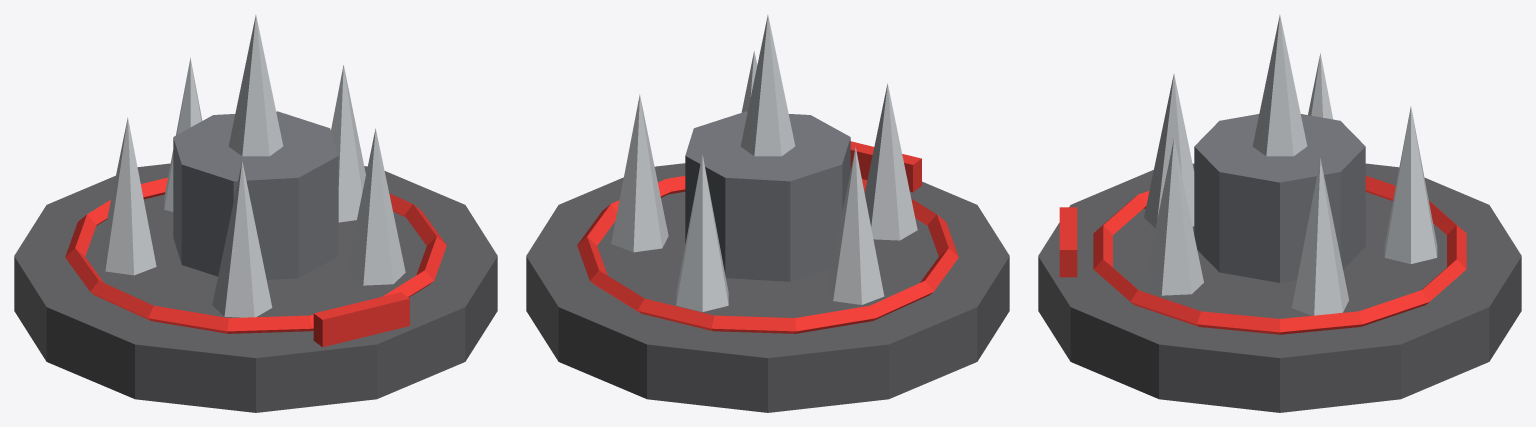
Rendered from TD_SpikeTower_T0.fbx.
3 views of the same model, side by side, from view 1: azimuth 30°, elevation 25°; view 2: azimuth 150°, elevation 25°; view 3: azimuth 270°, elevation 25° (orthographic).
Visible parts, largest first — view 1: TD_SpikeTower_T0_Base, TD_SpikeTower_T0_Core, TD_SpikeTower_T0_WarningRing, TD_SpikeTower_T0_Spike_05, TD_SpikeTower_T0_Spike_04, TD_SpikeTower_T0_Spike_03, TD_SpikeTower_T0_CentralSpike, TD_SpikeTower_T0_RedWarningMark, TD_SpikeTower_T0_Spike_01, TD_SpikeTower_T0_Spike_02; view 2: TD_SpikeTower_T0_Base, TD_SpikeTower_T0_Core, TD_SpikeTower_T0_WarningRing, TD_SpikeTower_T0_Spike_01, TD_SpikeTower_T0_Spike_03, TD_SpikeTower_T0_Spike_04, TD_SpikeTower_T0_Spike_02, TD_SpikeTower_T0_CentralSpike, TD_SpikeTower_T0_RedWarningMark; view 3: TD_SpikeTower_T0_Base, TD_SpikeTower_T0_Core, TD_SpikeTower_T0_WarningRing, TD_SpikeTower_T0_Spike_05, TD_SpikeTower_T0_Spike_01, TD_SpikeTower_T0_Spike_02, TD_SpikeTower_T0_CentralSpike, TD_SpikeTower_T0_Spike_04, TD_SpikeTower_T0_RedWarningMark, TD_SpikeTower_T0_Spike_03.
Boxes of the visible parts, bbox=[...] form: TD_SpikeTower_T0_Base: bbox=[14, 163, 497, 412]; TD_SpikeTower_T0_Core: bbox=[173, 111, 338, 279]; TD_SpikeTower_T0_WarningRing: bbox=[65, 177, 446, 333]; TD_SpikeTower_T0_Spike_05: bbox=[345, 128, 405, 285]; TD_SpikeTower_T0_Spike_04: bbox=[212, 161, 272, 317]; TD_SpikeTower_T0_Spike_03: bbox=[99, 117, 156, 275]; TD_SpikeTower_T0_CentralSpike: bbox=[228, 15, 283, 156]; TD_SpikeTower_T0_RedWarningMark: bbox=[313, 292, 409, 347]; TD_SpikeTower_T0_Spike_01: bbox=[331, 65, 365, 222]; TD_SpikeTower_T0_Spike_02: bbox=[164, 57, 202, 211]; TD_SpikeTower_T0_Base: bbox=[526, 163, 1009, 412]; TD_SpikeTower_T0_Core: bbox=[685, 111, 850, 281]; TD_SpikeTower_T0_WarningRing: bbox=[577, 176, 958, 333]; TD_SpikeTower_T0_Spike_01: bbox=[611, 94, 668, 252]; TD_SpikeTower_T0_Spike_03: bbox=[827, 147, 884, 304]; TD_SpikeTower_T0_Spike_04: bbox=[864, 83, 917, 240]; TD_SpikeTower_T0_Spike_02: bbox=[676, 153, 728, 311]; TD_SpikeTower_T0_CentralSpike: bbox=[740, 15, 795, 156]; TD_SpikeTower_T0_RedWarningMark: bbox=[850, 141, 921, 192]; TD_SpikeTower_T0_Base: bbox=[1038, 163, 1521, 412]; TD_SpikeTower_T0_Core: bbox=[1194, 114, 1365, 282]; TD_SpikeTower_T0_WarningRing: bbox=[1093, 176, 1466, 334]; TD_SpikeTower_T0_Spike_05: bbox=[1144, 139, 1203, 295]; TD_SpikeTower_T0_Spike_01: bbox=[1291, 158, 1348, 315]; TD_SpikeTower_T0_Spike_02: bbox=[1384, 106, 1437, 263]; TD_SpikeTower_T0_CentralSpike: bbox=[1252, 15, 1307, 156]; TD_SpikeTower_T0_Spike_04: bbox=[1144, 73, 1194, 228]; TD_SpikeTower_T0_RedWarningMark: bbox=[1059, 207, 1077, 277]; TD_SpikeTower_T0_Spike_03: bbox=[1308, 53, 1333, 119].
Size of the model in its own units: 0.96 by 0.65 by 0.96.
